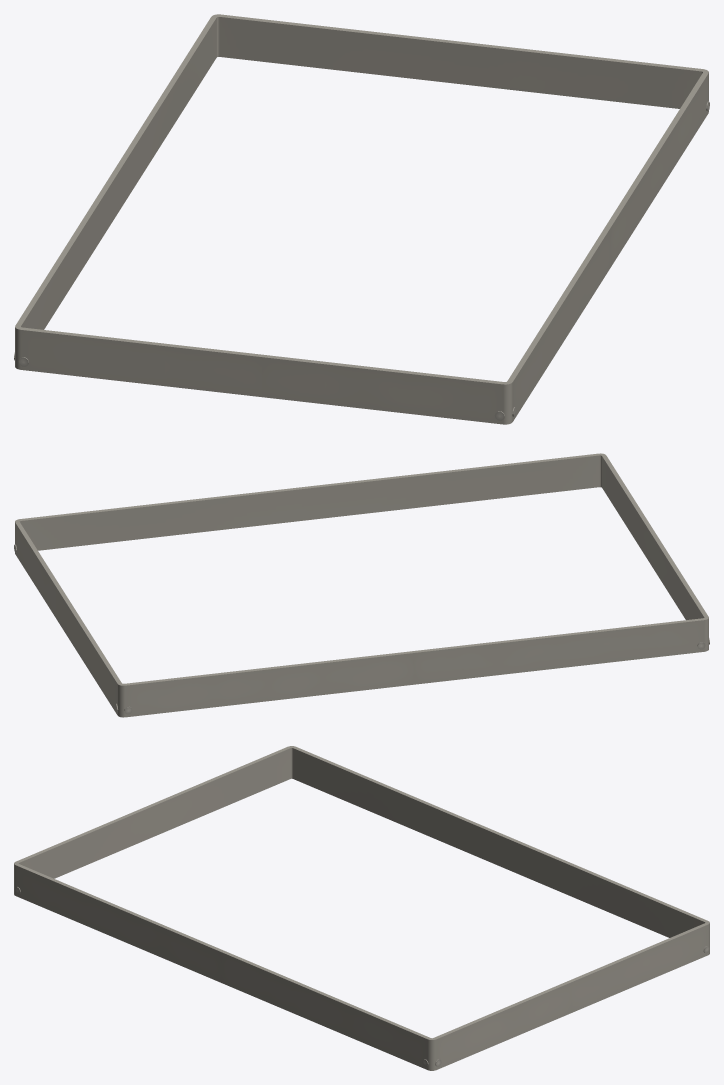
The model's file is bottom_frame_0201_w600_d400.glb.
3 renders of one model, top to bottom at view 1: azimuth 30°, elevation 25°; view 2: azimuth 150°, elevation 25°; view 3: azimuth 270°, elevation 25°, orthographic. The views are drawn at different scales.
Visible parts, largest first — view 1: bottom_frame_0201_w600_d400; view 2: bottom_frame_0201_w600_d400; view 3: bottom_frame_0201_w600_d400.
Boxes of the visible parts, left/top/right/bottom form: bottom_frame_0201_w600_d400: left=14, top=14, right=709, bottom=424; bottom_frame_0201_w600_d400: left=14, top=453, right=709, bottom=717; bottom_frame_0201_w600_d400: left=14, top=746, right=709, bottom=1070.
Bounding box in the file's own units: 0.7021 × 0.0343 × 0.7021.
1 material, 1 textured.
